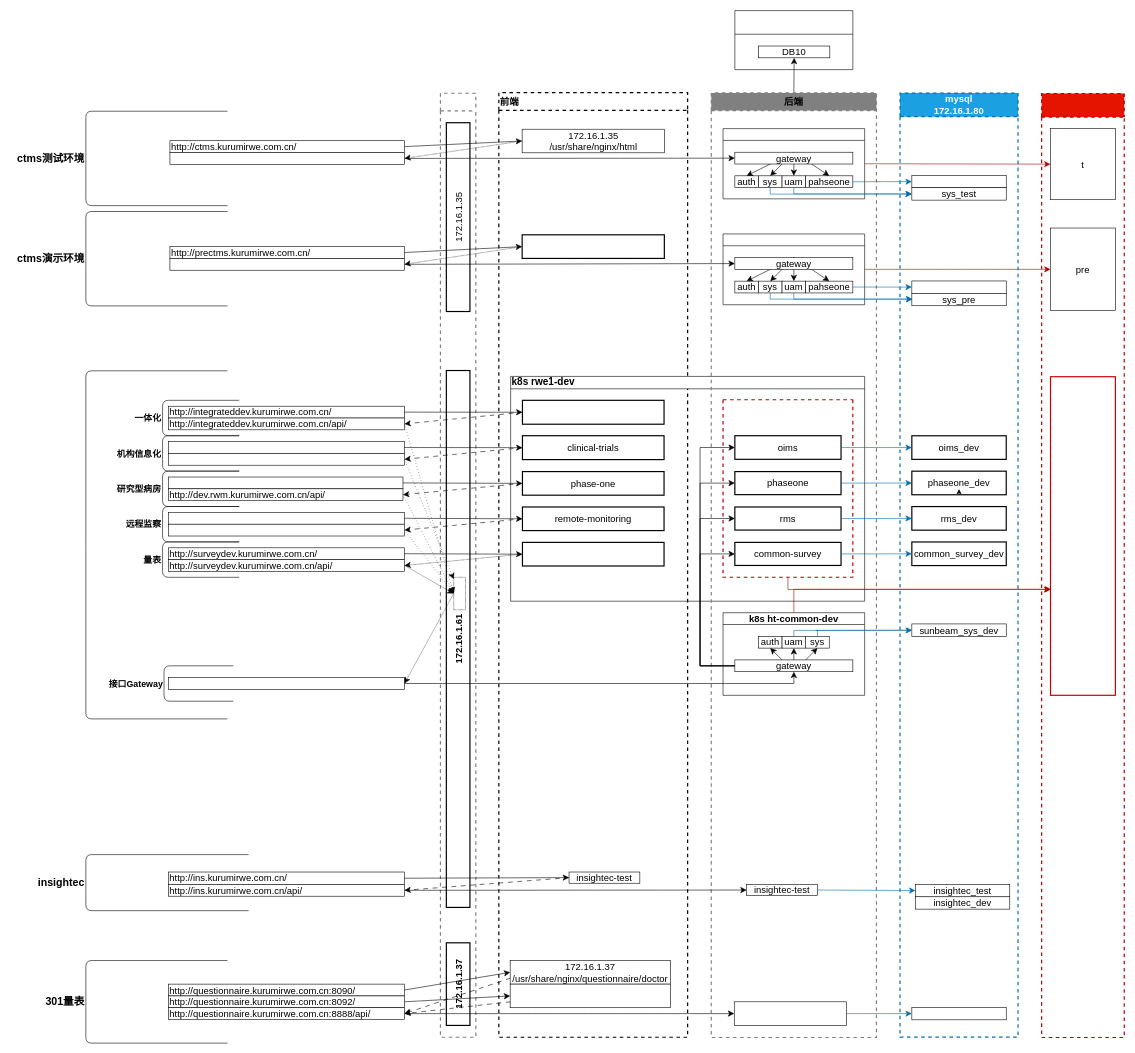
The diagram is 1135 pixels wide and 1053 high, and some of its shapes have lost their labels. The shapes that lost their labels are listed below. From the top down, each one's box as (x1, y1, x2, y2) in pixels, then its label:
(734, 10, 853, 70): redis 172.16.1.73
(169, 152, 404, 164): http://ctms.kurumirwe.com.cn/api/
(722, 128, 865, 199): 172.16.1.35 /root/pm
(911, 175, 1006, 188): phaseone_test
(169, 258, 404, 270): http://prectms.kurumirwe.com.cn/api/
(521, 234, 665, 259): 172.16.1.35 /usr/share/nginx/ctms-pre
(722, 233, 865, 305): 172.16.1.37 /root/ctms-pre
(911, 280, 1006, 293): phaseone_pre
(522, 399, 664, 425): integrated-platform
(168, 441, 404, 453): http://clinicaldev.kurumirwe.com.cn/
(168, 453, 404, 465): http://clinicaldev.kurumirwe.com.cn/api/
(168, 476, 403, 489): http://dev.rwm.kurumirwe.com.cn/
(168, 512, 404, 524): http://remote-monitoringdev.kurumirwe.com.cn/
(168, 524, 404, 536): http://remote-monitoringdev.kurumirwe.com.cn/api/
(1050, 376, 1116, 696): sunbeam_dev
(85, 370, 227, 719): 临床研究一体化 、机构信息化 、开发测试环境
(522, 542, 664, 566): commonsurvey
(440, 92, 476, 1038): nginx
(1041, 93, 1125, 1038): NACOS 172.16.1.36
(453, 577, 466, 610): x.conf
(168, 677, 404, 689): http://sunbeam-cloud-dev.kurumirwe.com.cn/api/
(510, 984, 670, 1008): 172.16.1.37 /usr/share/nginx/questionnaire/paint
(734, 1001, 846, 1025): 172.16.1.37 /root/pm/
(911, 1007, 1006, 1020): questionnaire_test
